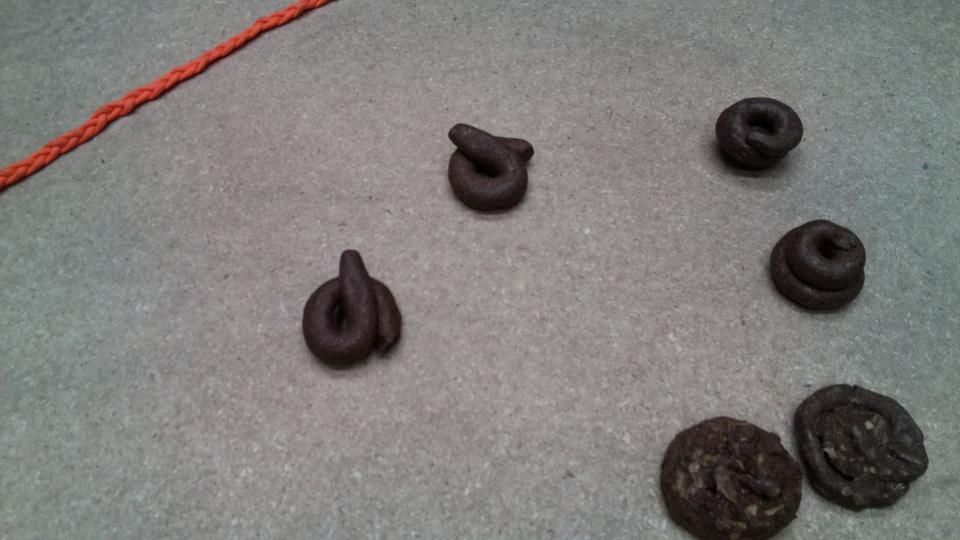poop: (655, 413, 809, 540), (790, 378, 932, 514), (300, 246, 405, 373), (766, 217, 870, 318), (443, 121, 539, 217), (712, 93, 805, 181)
rope: (1, 1, 318, 183)
